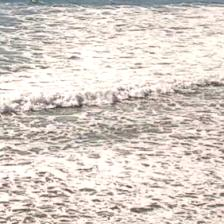surfer: (32, 0, 40, 3), (110, 0, 116, 2)
